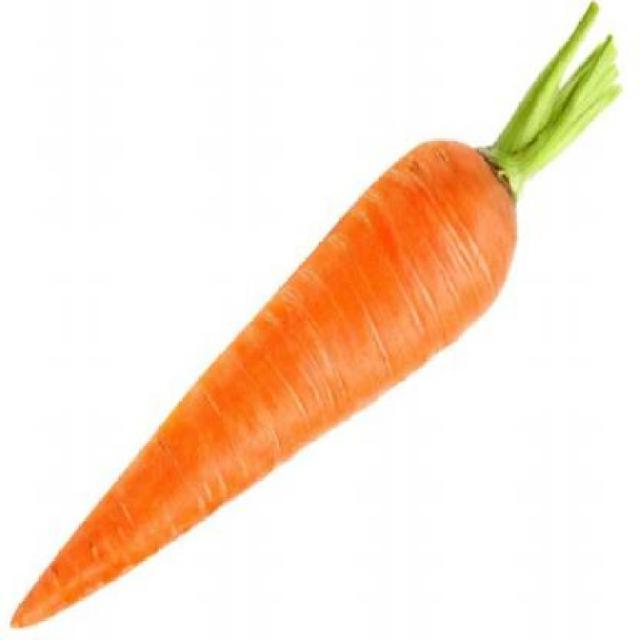carrot: (13, 126, 526, 631)
